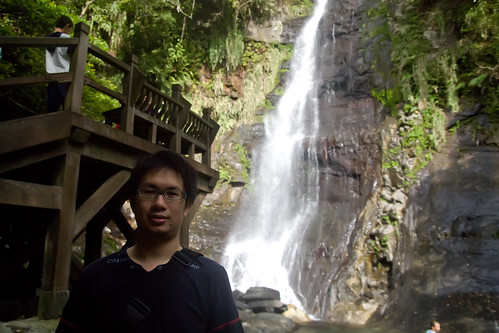wufengciWaterfall: (203, 1, 362, 316)
